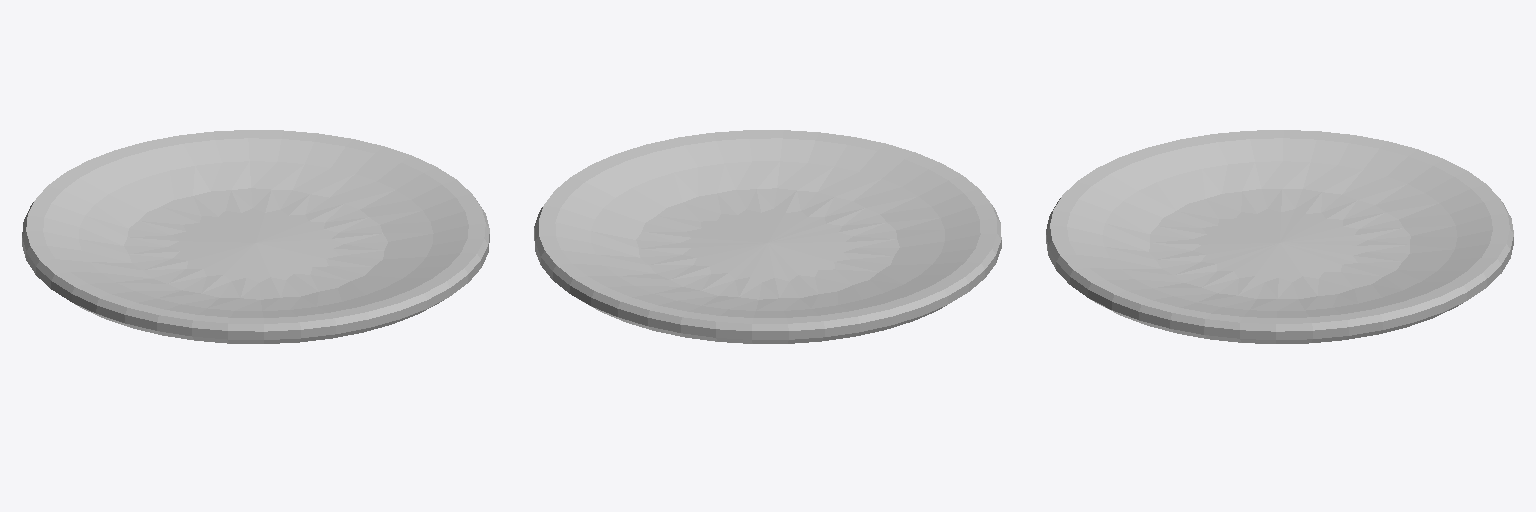
Rendered from Plate.obj.
The picture shows the model from 3 angles: view 1: azimuth 30°, elevation 25°; view 2: azimuth 150°, elevation 25°; view 3: azimuth 270°, elevation 25°; orthographic projection.
Visible parts, largest first — view 1: Plate; view 2: Plate; view 3: Plate.
Part boxes in pixels (left/top/right/bottom): Plate: left=22, top=130, right=489, bottom=343; Plate: left=534, top=130, right=1001, bottom=343; Plate: left=1046, top=130, right=1513, bottom=343.
Size of the model in its own units: 35.72 by 4.88 by 35.72.